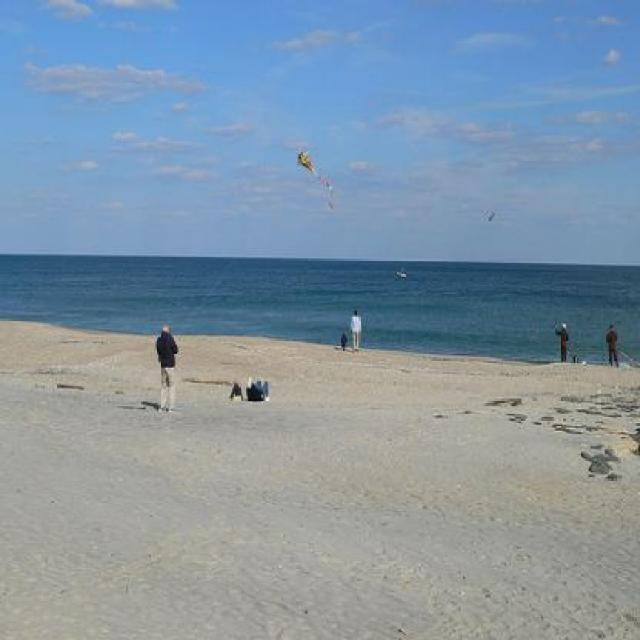ship: (394, 265, 406, 277)
